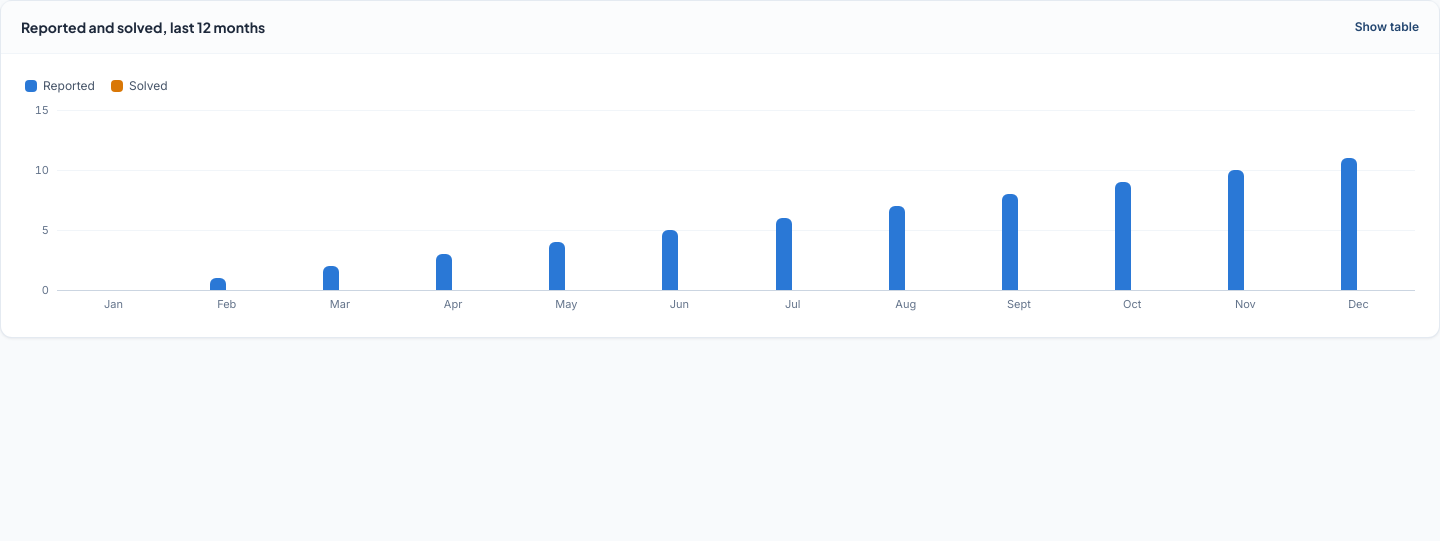
Test: charts › shows a tooltip on focus and the same numbers in a table
Press Tab
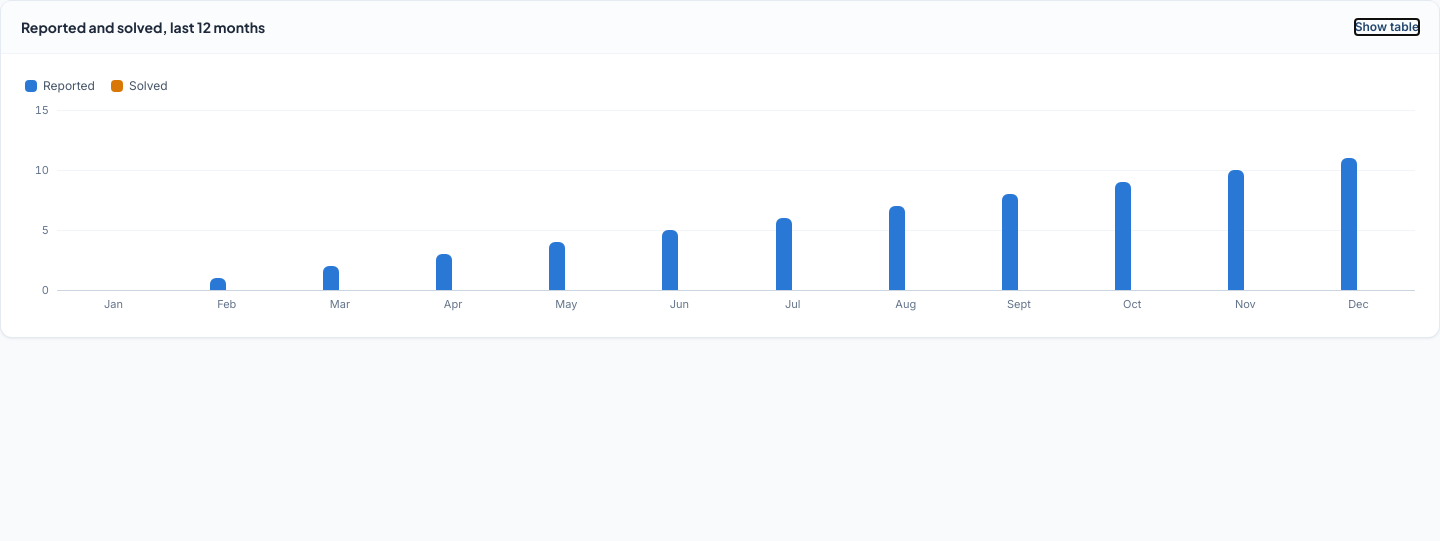
Press Tab
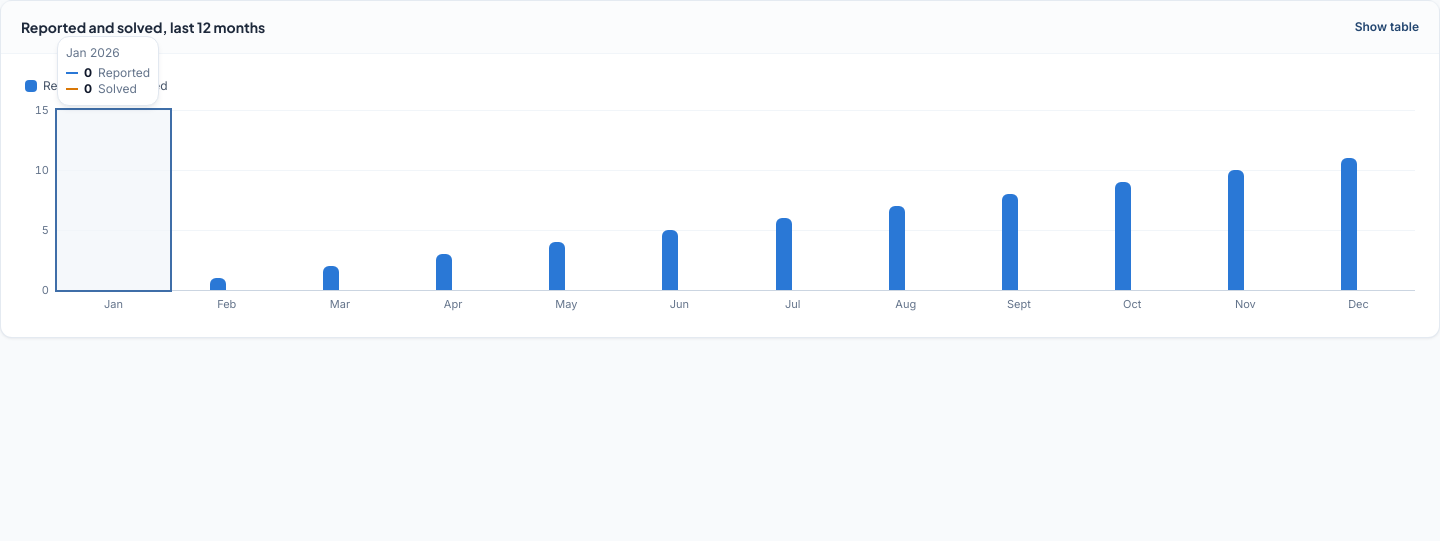
Click the button "Show table" at (1387, 27), box [1355,19,1419,35]
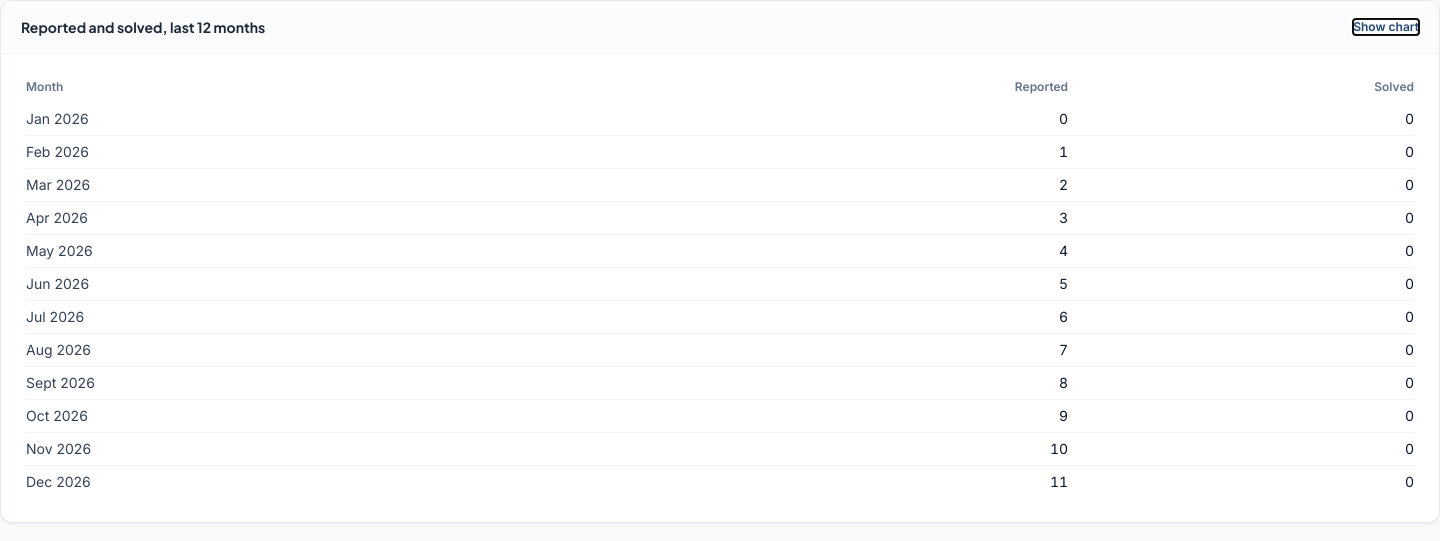
Now the number of rows is 13
